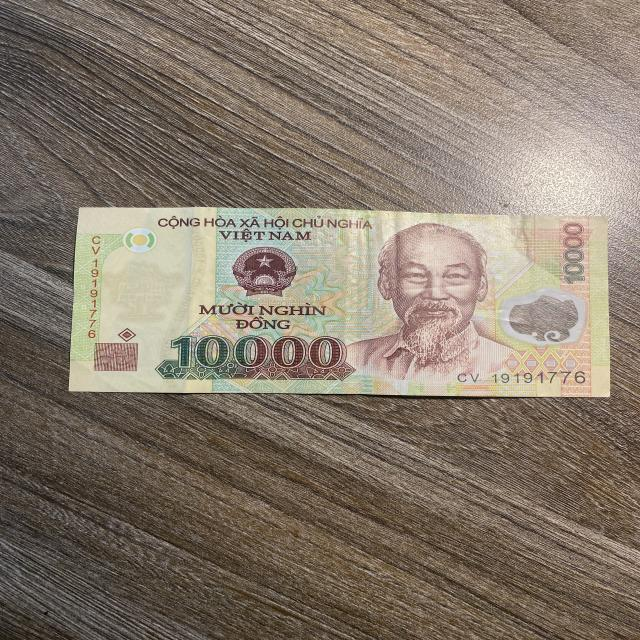10 000 VND: (64, 204, 614, 401)
